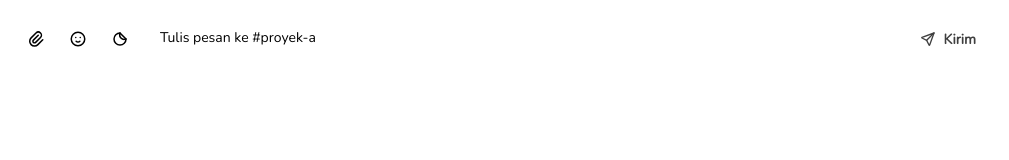
it: Komposer › lampirkan file, hapus satu, lalu kirim
Click the button named "Lampirkan file".
click(36, 39)  # box [16, 18, 56, 60]
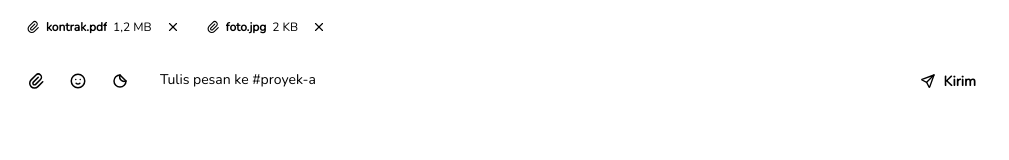
Expected: the text "kontrak.pdf" is shown, [46, 18, 107, 36]
Expected: the text "1,2 MB" is shown, [113, 18, 152, 36]
Expected: the text "foto.jpg" is shown, [226, 18, 266, 36]
Click the button named "Hapus lampiran foto.jpg".
click(319, 27)  # box [304, 12, 334, 42]
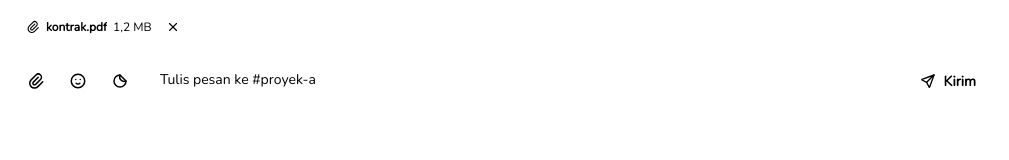
Expected: the text "foto.jpg" is gone
Click the button "Kirim".
click(948, 81)  # box [904, 60, 992, 102]
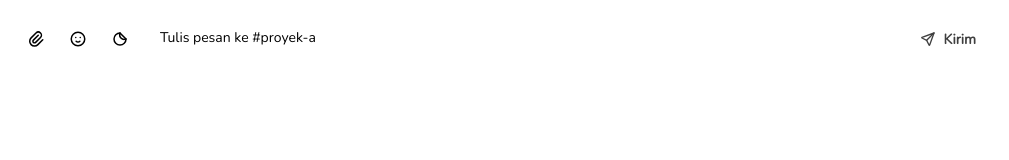
Expected: the text "kontrak.pdf" is gone
